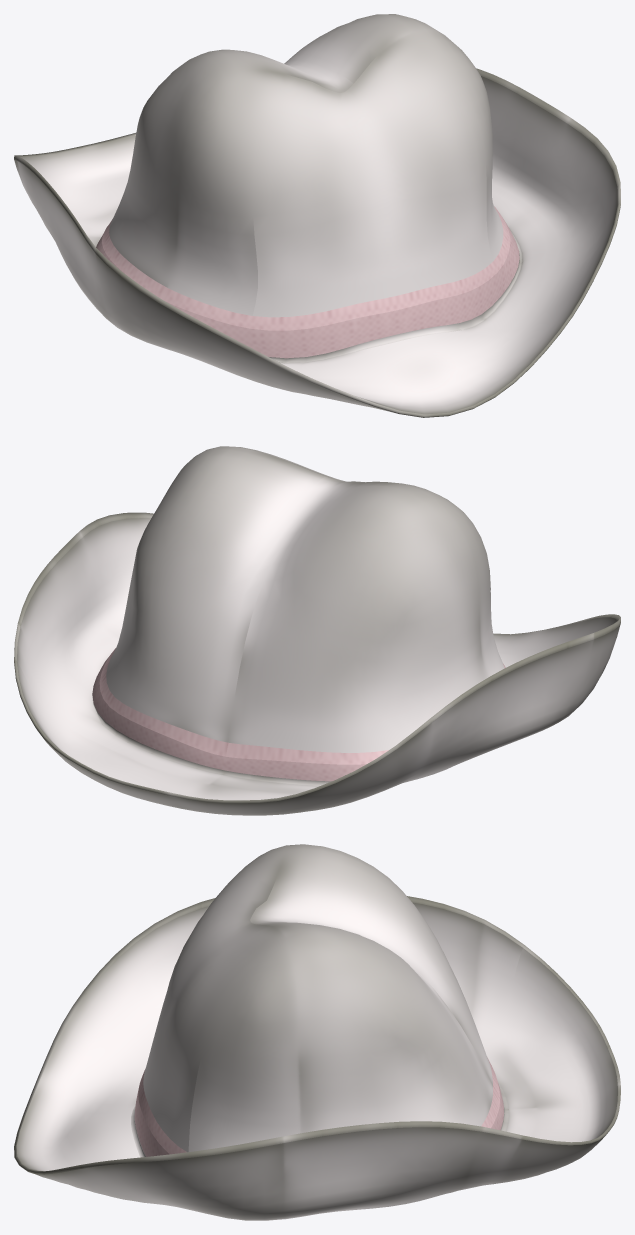
Rendered from White_Cowboy_Hat.glb.
3 renders of one model, top to bottom at view 1: azimuth 30°, elevation 25°; view 2: azimuth 150°, elevation 25°; view 3: azimuth 270°, elevation 25°, orthographic.
Parts seen in each view (by area): view 1: White_Cowboy_Hat; view 2: White_Cowboy_Hat; view 3: White_Cowboy_Hat.
Boxes of the visible parts, bbox=[...] form: White_Cowboy_Hat: bbox=[14, 14, 620, 417]; White_Cowboy_Hat: bbox=[14, 446, 620, 815]; White_Cowboy_Hat: bbox=[14, 844, 620, 1220].
Size of the model in its own units: 1.28 by 0.6605 by 1.35.
Materials: 2 (2 with a texture image).
